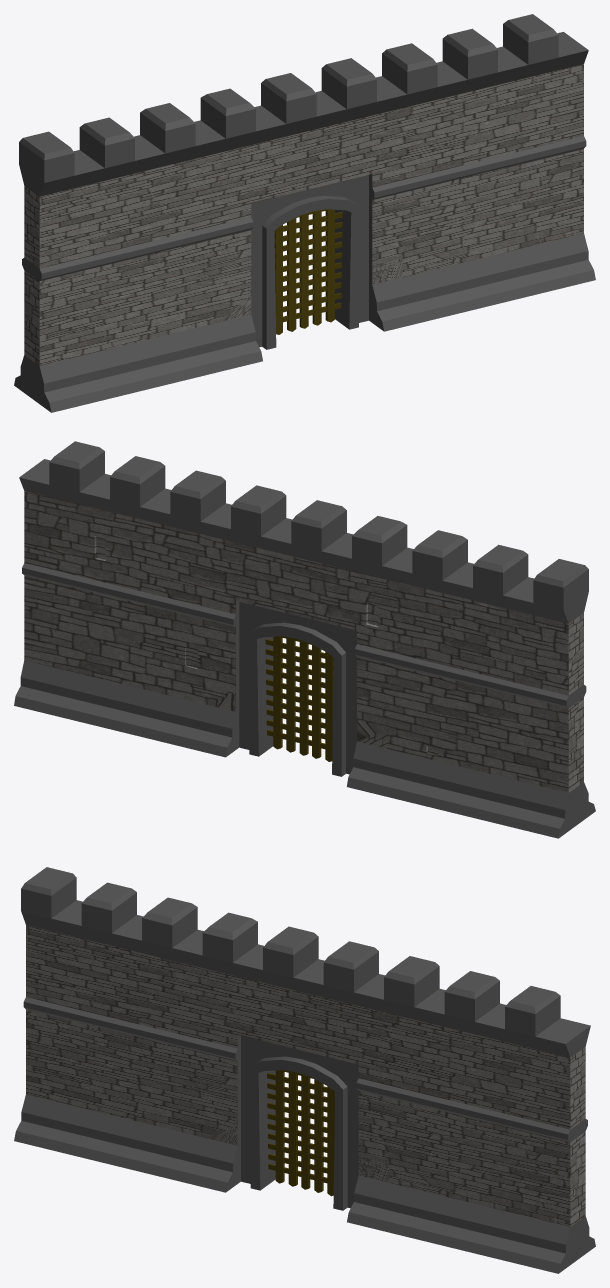
The model's file is wall_closedoor.fbx.
3 renders of one model, top to bottom at view 1: azimuth 30°, elevation 25°; view 2: azimuth 150°, elevation 25°; view 3: azimuth 330°, elevation 25°, orthographic.
Visible parts, largest first — view 1: wall, pCube1, pCube5, pCube2, pCube3, pCube4, pCube6; view 2: wall, pCube1, pCube3, pCube2, pCube4, pCube5, pCube6; view 3: wall, pCube1, pCube5, pCube6, pCube2, pCube3, pCube4.
Part boxes in pixels (x1=…): wall: x1=14, y1=14, x2=595, y2=412; pCube1: x1=251, y1=175, x2=368, y2=349; pCube5: x1=287, y1=217, x2=296, y2=331; pCube2: x1=299, y1=213, x2=308, y2=328; pCube3: x1=312, y1=210, x2=321, y2=325; pCube4: x1=325, y1=209, x2=334, y2=322; pCube6: x1=274, y1=225, x2=282, y2=334; wall: x1=14, y1=441, x2=595, y2=838; pCube1: x1=239, y1=602, x2=356, y2=776; pCube3: x1=286, y1=637, x2=295, y2=752; pCube2: x1=299, y1=640, x2=308, y2=755; pCube4: x1=273, y1=636, x2=282, y2=749; pCube5: x1=312, y1=644, x2=321, y2=758; pCube6: x1=325, y1=652, x2=333, y2=761; wall: x1=14, y1=867, x2=595, y2=1273; pCube1: x1=241, y1=1036, x2=358, y2=1210; pCube5: x1=288, y1=1071, x2=297, y2=1186; pCube6: x1=275, y1=1070, x2=284, y2=1183; pCube2: x1=301, y1=1074, x2=310, y2=1189; pCube3: x1=314, y1=1079, x2=323, y2=1192; pCube4: x1=327, y1=1086, x2=335, y2=1196.
Size of the model in its own units: 36.01 by 15.93 by 4.29.
